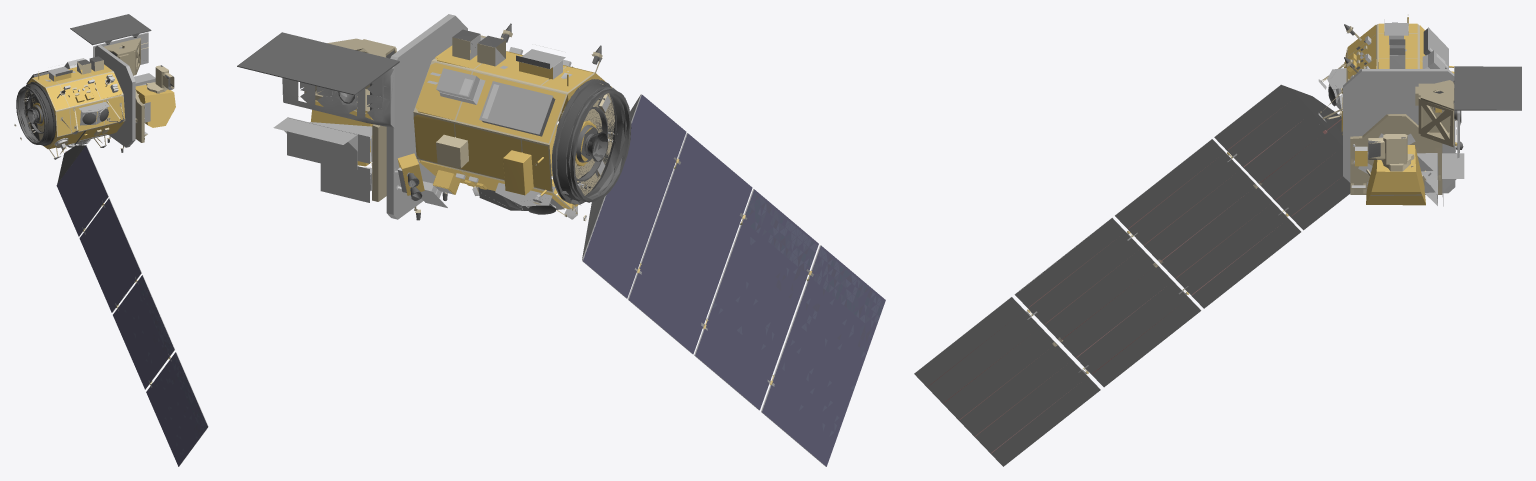
3 views of the same model, side by side, from view 1: azimuth 30°, elevation 25°; view 2: azimuth 150°, elevation 25°; view 3: azimuth 270°, elevation 25° (orthographic). The views are drawn at different scales.
Parts seen in each view (by area): view 1: Layer_0; view 2: Layer_0; view 3: Layer_0.
Boxes of the visible parts, box(x1,y1,x2,y2) form: Layer_0: box(14, 14, 208, 466); Layer_0: box(237, 14, 885, 466); Layer_0: box(914, 14, 1521, 466).
Size of the model in its own units: 4.97 by 10 by 12.21.
